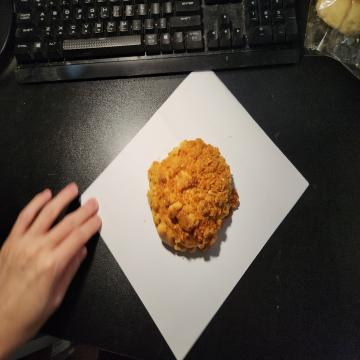soboru_bread: (147, 141, 238, 257)
